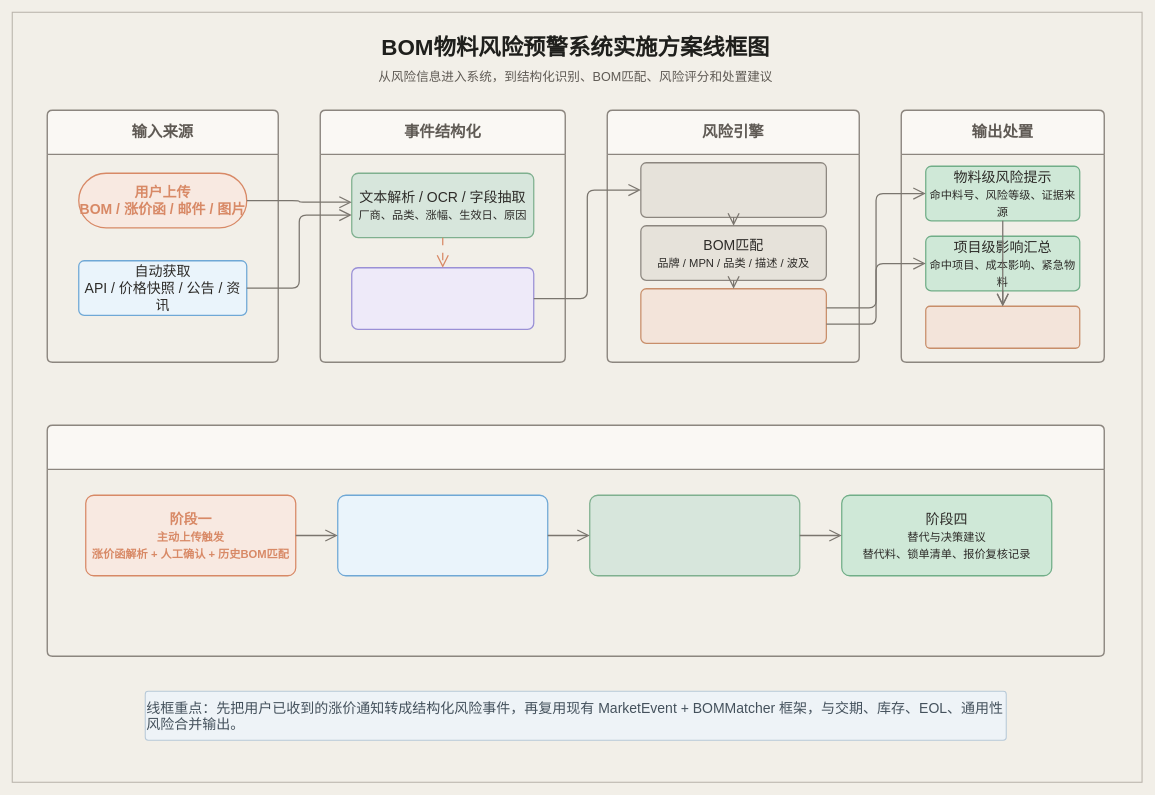
Image size: 1155x795. Some labels were removed from this diagram. The box of each missing label's shape, as (x1, y1, x2, y2) in pixels:
人工确认 修正厂商别名、品类范围和可信度: (351, 267, 534, 330)
分阶段落地路线: (46, 424, 1105, 657)
处置建议 锁价 / 备货 / 替代 / 报价复核: (925, 305, 1080, 349)
生成风险事件 price_increase / EOL / lead_time: (640, 162, 827, 218)
阶段三 自动获取 价格快照 / 公告 / 邮件监听 / 待确认事件: (589, 494, 800, 576)
阶段二 成本影响估算 单行 / 单板 / 批量成本三档测算: (337, 494, 548, 576)
风险评分 交期 / 库存 / EOL / 涨价 / 通用性: (640, 288, 827, 344)
